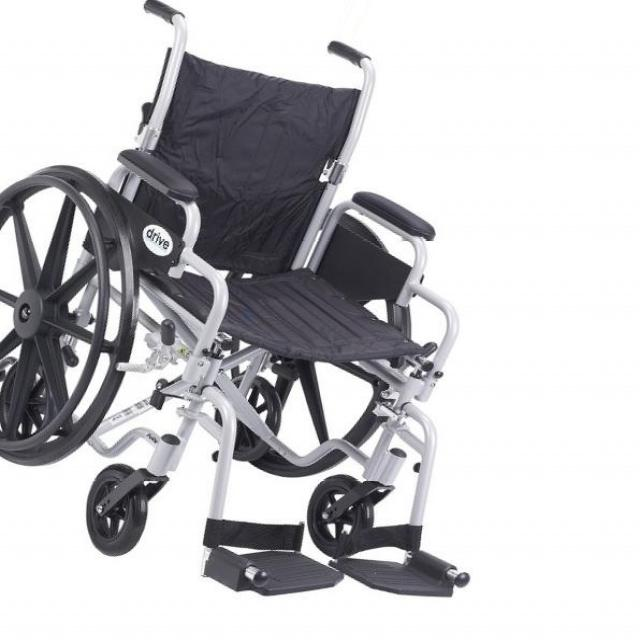wheelchair: (2, 0, 482, 619)
